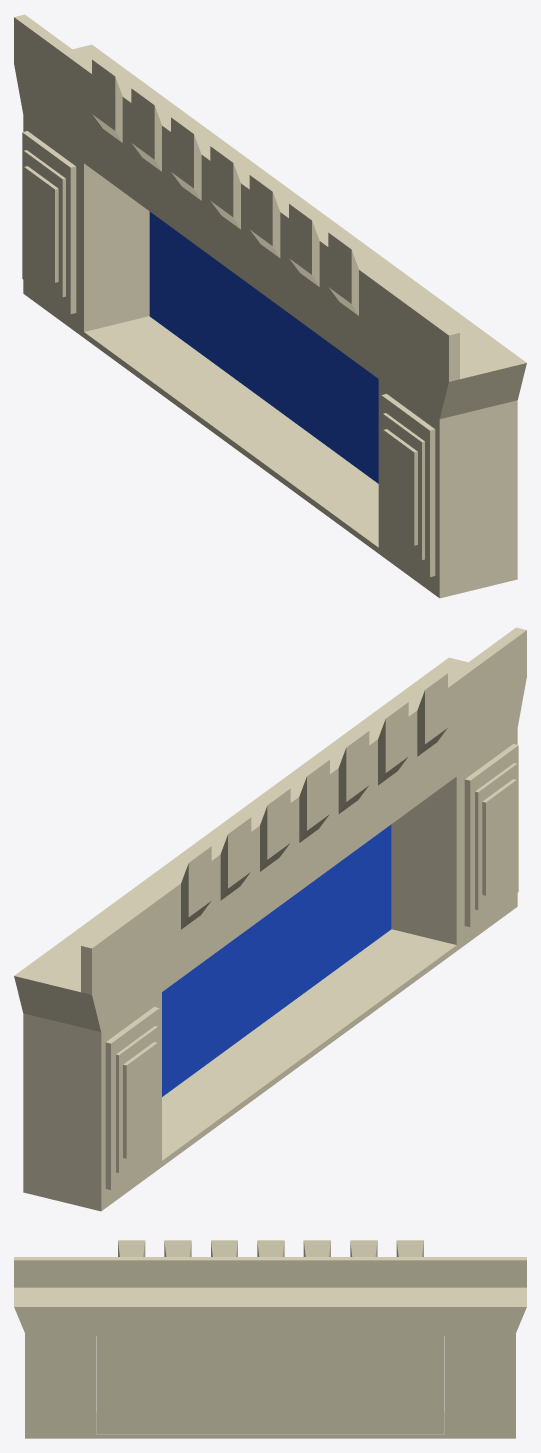
File: Wall.fbx
The picture shows the model from 3 angles, top to bottom: view 1: azimuth 30°, elevation 25°; view 2: azimuth 150°, elevation 25°; view 3: azimuth 270°, elevation 25°; orthographic projection. The views are drawn at different scales.
Parts seen in each view (by area): view 1: Cube.001; view 2: Cube.001; view 3: Cube.001.
Boxes of the visible parts, x1,y1,x2,y2 form: Cube.001: (14,14,526,598); Cube.001: (14,627,526,1211); Cube.001: (14,1240,526,1438).
Bounding box in the file's own units: 569 × 1770 × 4753.
